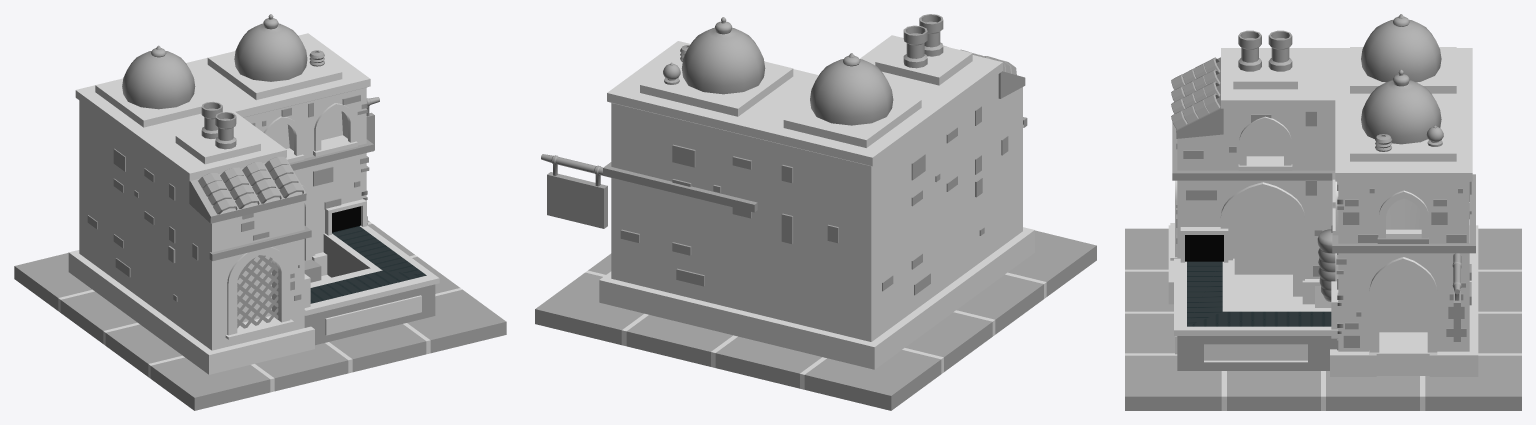
Rendered from building-kitchen.fbx.
3 views of the same model, side by side, from view 1: azimuth 30°, elevation 25°; view 2: azimuth 150°, elevation 25°; view 3: azimuth 270°, elevation 25° (orthographic). The views are drawn at different scales.
Visible parts, largest first — view 1: Building.001, pCube2, polySurface2, pSphere2.001, pSphere2, Cube.008, Cube.028, polySurface4, Building.005, Building.007, Cube.003, Cube.006 (+3 smaller); view 2: Building.001, pCube2, pSphere2.001, pSphere2, pCube16, Building.005, pCylinder2, pCylinder2.001, pSphere3, polySurface4; view 3: Building.001, pCube2, polySurface2, pSphere2.001, pSphere2, Building.005, Cube.007, Cube.001, Cube.005, Building.008, polySurface4, pCylinder5 (+8 smaller).
Part boxes in pixels (x1,y1,x2,y2): Building.001: [68, 33, 370, 374]; pCube2: [14, 220, 506, 410]; polySurface2: [304, 225, 439, 345]; pSphere2.001: [234, 14, 307, 81]; pSphere2: [122, 45, 195, 109]; Cube.008: [227, 247, 290, 335]; Cube.028: [237, 255, 278, 328]; polySurface4: [189, 158, 306, 223]; Building.005: [209, 139, 373, 261]; Building.007: [325, 199, 366, 235]; Cube.003: [314, 103, 356, 151]; Cube.006: [302, 185, 315, 260]; Building.001: [599, 35, 1034, 369]; pCube2: [535, 230, 1096, 410]; pSphere2.001: [681, 17, 765, 94]; pSphere2: [810, 53, 893, 125]; pCube16: [547, 172, 607, 228]; Building.005: [603, 117, 1027, 212]; pCylinder2: [903, 25, 927, 68]; pCylinder2.001: [919, 14, 943, 56]; pSphere3: [541, 154, 610, 186]; polySurface4: [998, 71, 1025, 98]; Building.001: [1168, 47, 1478, 376]; pCube2: [1125, 228, 1521, 410]; polySurface2: [1174, 258, 1338, 370]; pSphere2.001: [1361, 69, 1441, 144]; pSphere2: [1361, 14, 1441, 82]; Building.005: [1172, 122, 1475, 253]; Cube.007: [1220, 182, 1304, 296]; Cube.001: [1369, 332, 1437, 375]; Cube.005: [1369, 257, 1437, 352]; Building.008: [1180, 227, 1228, 262]; polySurface4: [1176, 57, 1223, 138]; pCylinder5: [1317, 229, 1335, 301].
Size of the model in its own units: 638 by 466 by 594.
